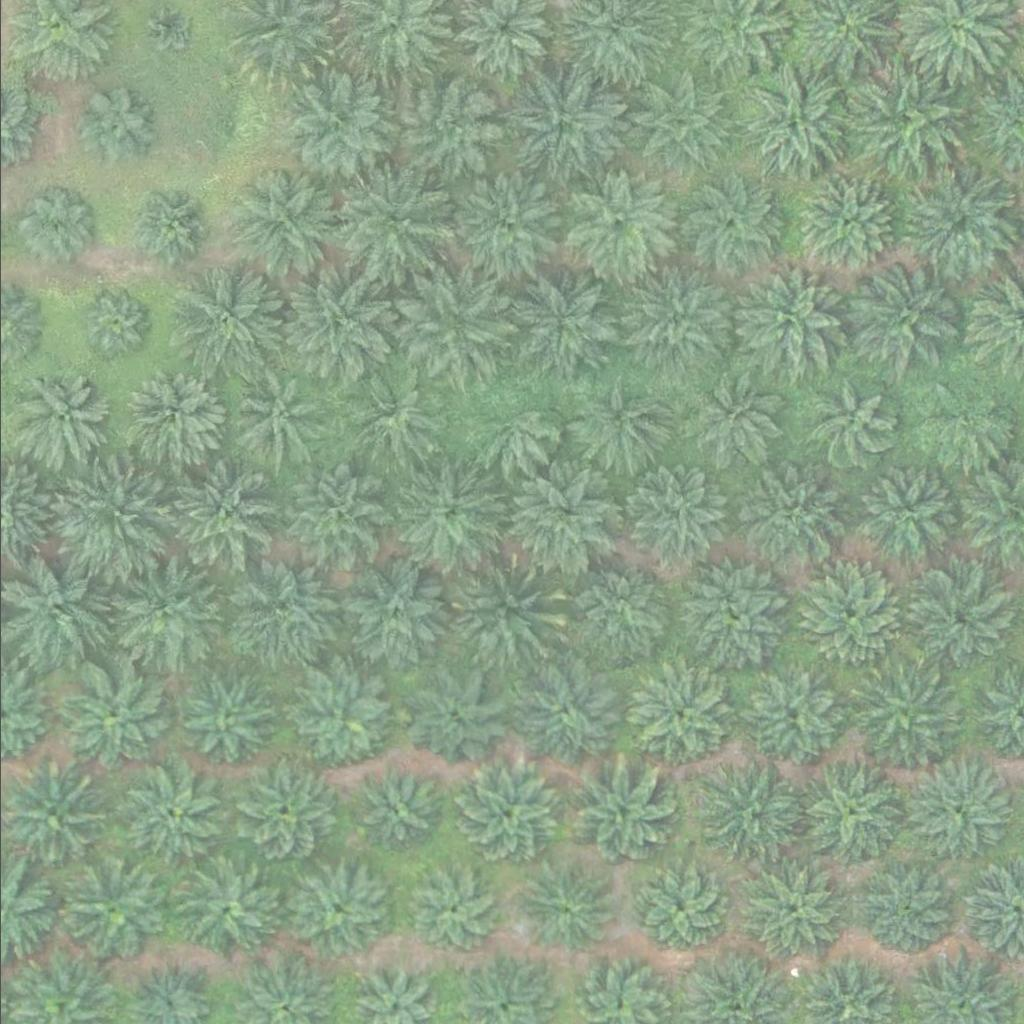Kelapa_Sawit: (849, 663, 963, 776), (792, 755, 906, 868), (693, 763, 807, 876), (178, 263, 292, 376), (447, 166, 561, 279), (337, 163, 451, 276), (618, 64, 732, 177), (508, 66, 622, 179), (849, 259, 962, 372), (727, 263, 840, 376), (619, 461, 732, 574), (562, 757, 675, 870), (452, 759, 565, 872), (339, 558, 452, 671), (229, 554, 342, 667), (505, 463, 618, 576), (392, 454, 505, 567), (275, 460, 388, 573), (228, 168, 341, 281), (388, 70, 501, 183), (57, 462, 170, 575), (109, 559, 222, 672), (899, 753, 1013, 865), (163, 460, 277, 572), (397, 267, 511, 379), (280, 269, 394, 381), (847, 60, 960, 172), (733, 68, 846, 180), (900, 163, 1013, 275), (676, 167, 789, 279), (619, 266, 732, 378), (848, 462, 961, 574), (899, 566, 1012, 678), (675, 565, 788, 677), (559, 556, 672, 668), (444, 555, 557, 667), (504, 265, 617, 377), (561, 165, 674, 277), (281, 75, 394, 187), (55, 663, 168, 775), (116, 758, 229, 870), (797, 172, 898, 272), (736, 470, 837, 570), (800, 568, 901, 668), (743, 670, 844, 770), (515, 859, 616, 959), (287, 860, 388, 960), (170, 860, 271, 960), (233, 764, 334, 864), (628, 663, 729, 763), (516, 660, 617, 760), (400, 669, 501, 769), (290, 670, 391, 770), (176, 667, 277, 767), (570, 375, 671, 475), (119, 363, 220, 463), (7, 369, 108, 469), (856, 860, 956, 960), (739, 862, 839, 962), (629, 859, 729, 959), (344, 367, 444, 467), (225, 371, 325, 471), (67, 861, 167, 961), (351, 768, 439, 856), (466, 384, 554, 472), (920, 383, 1008, 470), (806, 378, 894, 465), (690, 379, 778, 466), (408, 868, 496, 955), (70, 84, 158, 171), (120, 183, 208, 270), (11, 180, 99, 267), (77, 285, 152, 360), (143, 2, 194, 52), (207, 99, 257, 149)
